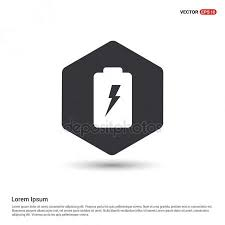charging sign: (88, 56, 136, 134)
